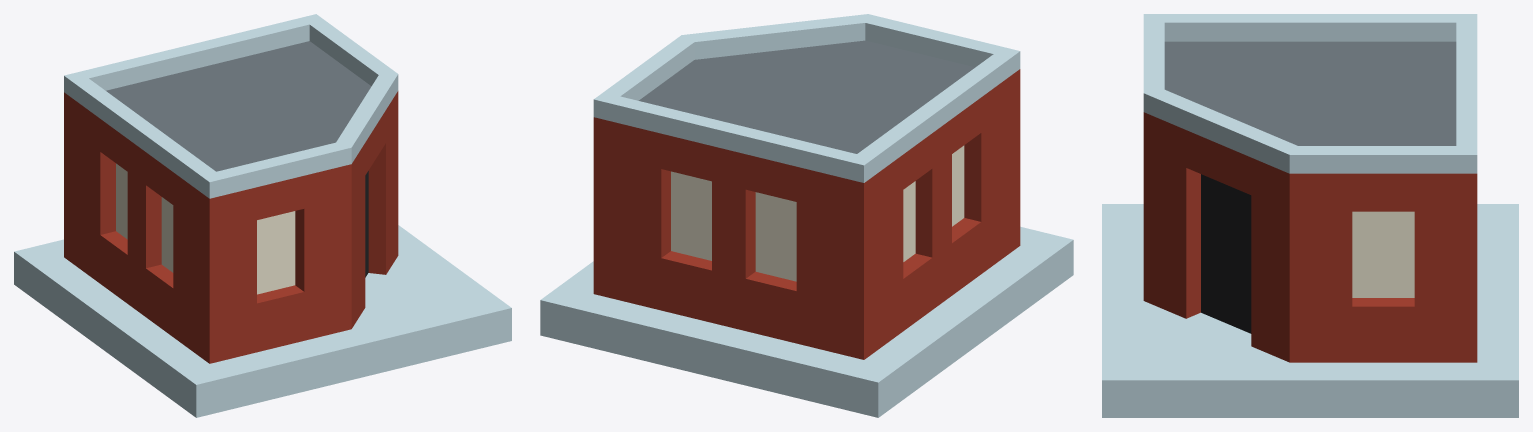
Rendered from Building_10_Base (Red).obj.
The picture shows the model from 3 angles, left to right: view 1: azimuth 30°, elevation 25°; view 2: azimuth 150°, elevation 25°; view 3: azimuth 270°, elevation 25°; orthographic projection. The views are drawn at different scales.
Visible parts, largest first — view 1: Building_10_Base_(Red); view 2: Building_10_Base_(Red); view 3: Building_10_Base_(Red).
Boxes of the visible parts, left/top/right/bottom form: Building_10_Base_(Red): left=14, top=14, right=511, bottom=417; Building_10_Base_(Red): left=540, top=14, right=1073, bottom=417; Building_10_Base_(Red): left=1102, top=14, right=1518, bottom=417.
Bounding box in the file's own units: 2 × 1.3 × 2.
